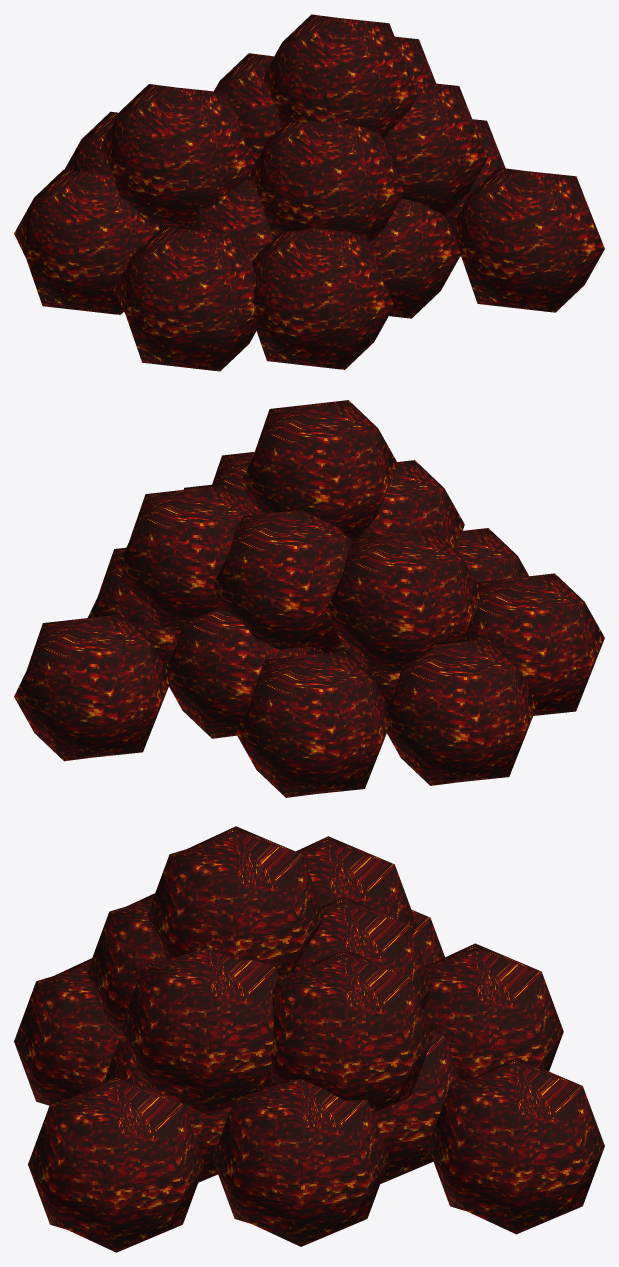
Rendered from CoalBurning.fbx.
3 views of the same model, one above another, from view 1: azimuth 30°, elevation 25°; view 2: azimuth 150°, elevation 25°; view 3: azimuth 270°, elevation 25° (orthographic). The views are drawn at different scales.
Parts seen in each view (by area): view 1: pCube9, pCube1, pCube10, pCube11, pCube12, pCube16, pCube6, pCube15, pCube3, pCube14, pCube2, pCube7 (+2 smaller); view 2: pCube8, pCube7, pCube6, pCube11, pCube16, pCube14, pCube13, pCube1, pCube4, pCube12, pCube5, pCube10 (+2 smaller); view 3: pCube9, pCube8, pCube5, pCube15, pCube13, pCube16, pCube7, pCube10, pCube14, pCube4, pCube12, pCube11 (+2 smaller).
Part boxes in pixels (x1=…): pCube9: x1=450, y1=167, x2=604, y2=312; pCube1: x1=113, y1=226, x2=256, y2=371; pCube10: x1=252, y1=227, x2=394, y2=369; pCube11: x1=99, y1=84, x2=254, y2=226; pCube12: x1=248, y1=120, x2=403, y2=242; pCube16: x1=262, y1=14, x2=417, y2=140; pCube6: x1=14, y1=169, x2=160, y2=314; pCube15: x1=384, y1=81, x2=487, y2=216; pCube3: x1=369, y1=198, x2=460, y2=318; pCube14: x1=214, y1=53, x2=281, y2=180; pCube2: x1=178, y1=179, x2=273, y2=263; pCube7: x1=64, y1=111, x2=178, y2=227; pCube8: x1=14, y1=614, x2=171, y2=761; pCube7: x1=236, y1=651, x2=388, y2=797; pCube6: x1=386, y1=639, x2=537, y2=785; pCube11: x1=325, y1=529, x2=482, y2=676; pCube16: x1=241, y1=400, x2=398, y2=538; pCube14: x1=213, y1=510, x2=351, y2=650; pCube13: x1=116, y1=485, x2=254, y2=632; pCube1: x1=464, y1=573, x2=604, y2=715; pCube4: x1=165, y1=607, x2=317, y2=738; pCube12: x1=349, y1=460, x2=464, y2=549; pCube5: x1=87, y1=547, x2=180, y2=666; pCube10: x1=455, y1=528, x2=528, y2=582; pCube9: x1=28, y1=1076, x2=204, y2=1252; pCube8: x1=428, y1=1058, x2=604, y2=1234; pCube5: x1=212, y1=1079, x2=389, y2=1246; pCube15: x1=120, y1=948, x2=278, y2=1115; pCube13: x1=270, y1=949, x2=432, y2=1113; pCube16: x1=147, y1=826, x2=324, y2=976; pCube7: x1=423, y1=943, x2=563, y2=1081; pCube10: x1=14, y1=958, x2=124, y2=1105; pCube14: x1=293, y1=897, x2=431, y2=1009; pCube4: x1=373, y1=1030, x2=461, y2=1183; pCube12: x1=87, y1=893, x2=166, y2=1036; pCube11: x1=296, y1=836, x2=416, y2=933.
Size of the model in its own units: 1.16 by 0.6926 by 1.11.
1 material, 1 textured.
